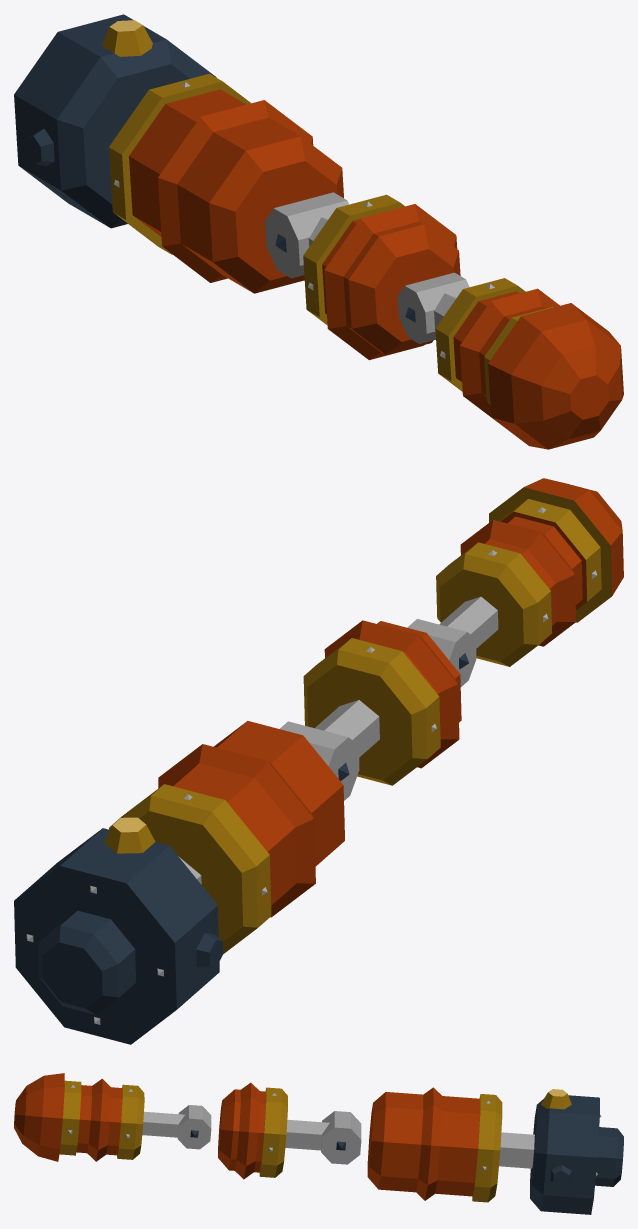
The model's file is piston-middle-finger-ddead1.glb.
The picture shows the model from 3 angles, top to bottom: view 1: azimuth 30°, elevation 25°; view 2: azimuth 150°, elevation 25°; view 3: azimuth 270°, elevation 25°; orthographic projection. The views are drawn at different scales.
Parts seen in each view (by area): view 1: middle-finger-phalanx-proximal, middle-finger-phalanx-distal, middle-finger-phalanx-intermediate; view 2: middle-finger-phalanx-proximal, middle-finger-phalanx-distal, middle-finger-phalanx-intermediate; view 3: middle-finger-phalanx-proximal, middle-finger-phalanx-distal, middle-finger-phalanx-intermediate.
Part boxes in pixels (box(x1,y1,x2,y2)): middle-finger-phalanx-proximal: box(14, 14, 343, 293); middle-finger-phalanx-distal: box(397, 272, 623, 449); middle-finger-phalanx-intermediate: box(265, 192, 460, 360); middle-finger-phalanx-proximal: box(14, 721, 344, 1044); middle-finger-phalanx-distal: box(407, 478, 623, 687); middle-finger-phalanx-intermediate: box(280, 620, 461, 800); middle-finger-phalanx-proximal: box(367, 1087, 623, 1214); middle-finger-phalanx-distal: box(14, 1073, 211, 1161); middle-finger-phalanx-intermediate: box(218, 1082, 361, 1179).
Bounding box in the file's own units: 0.0232 × 0.026 × 0.1142.
